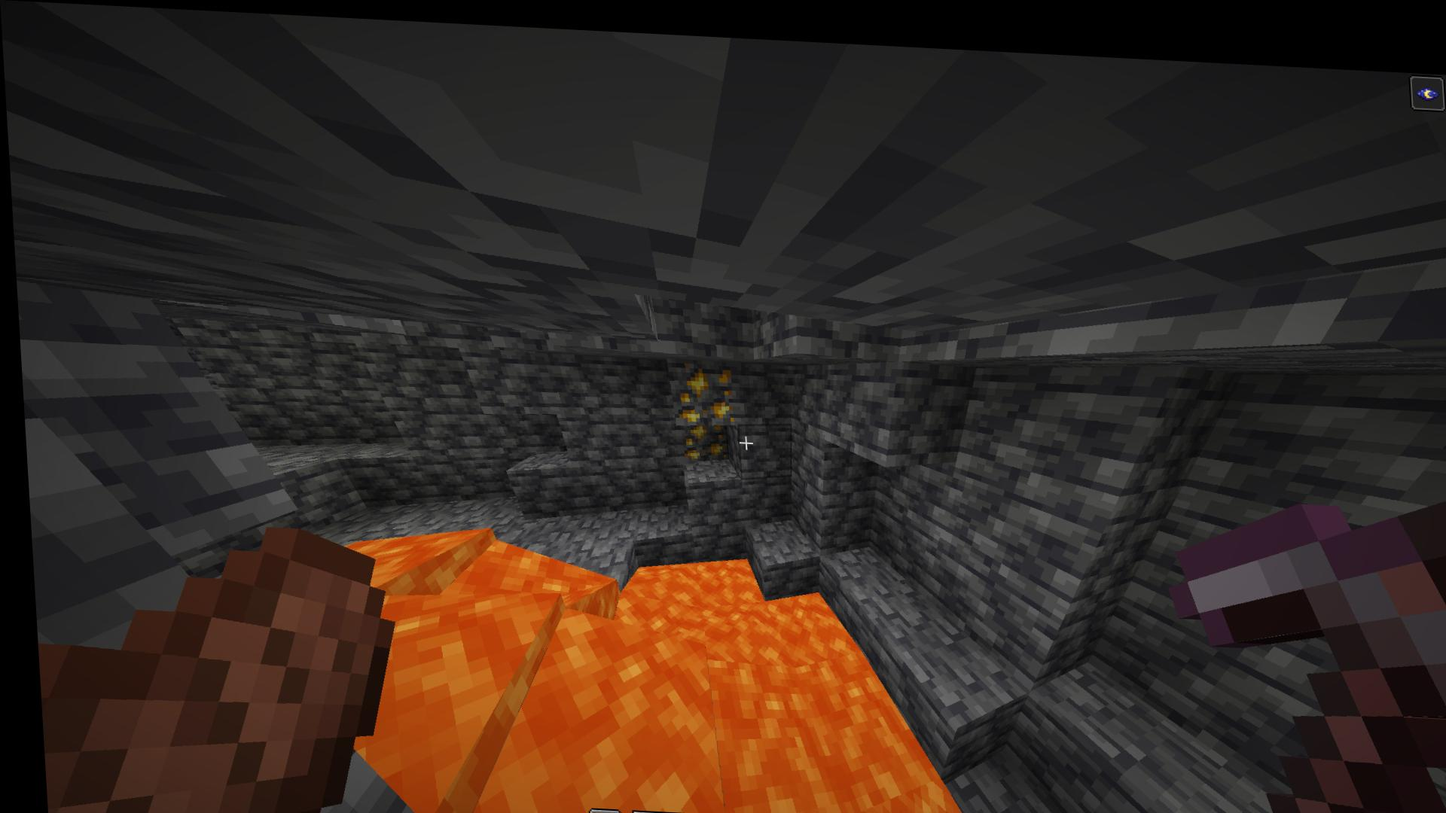gold ore: (668, 351, 735, 417), (676, 413, 727, 456)
